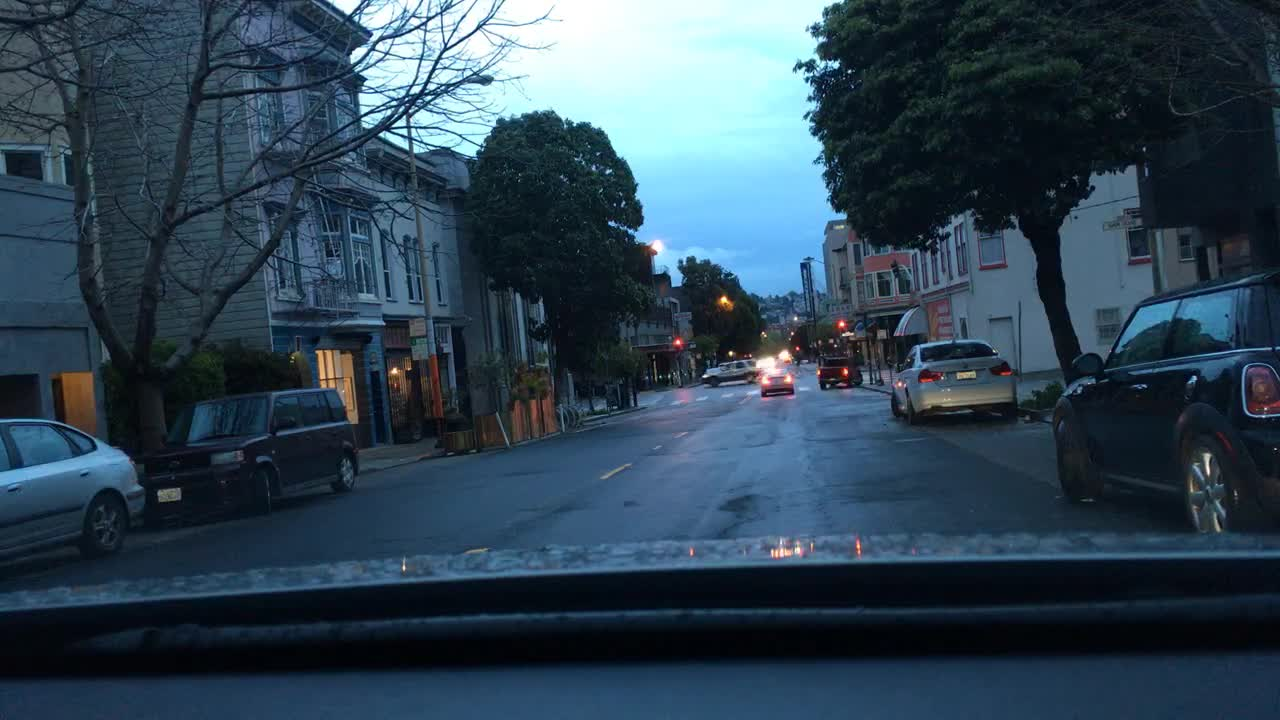car: (1049, 264, 1278, 534), (144, 385, 361, 530), (0, 416, 146, 567), (890, 334, 1019, 426), (700, 357, 759, 386), (815, 355, 862, 389), (760, 366, 795, 397), (755, 355, 776, 365), (783, 355, 791, 363)
traffic light: (888, 258, 901, 278), (836, 318, 845, 327), (675, 337, 681, 346), (794, 344, 800, 350)
traffic sign: (409, 338, 429, 360), (408, 316, 427, 336)
